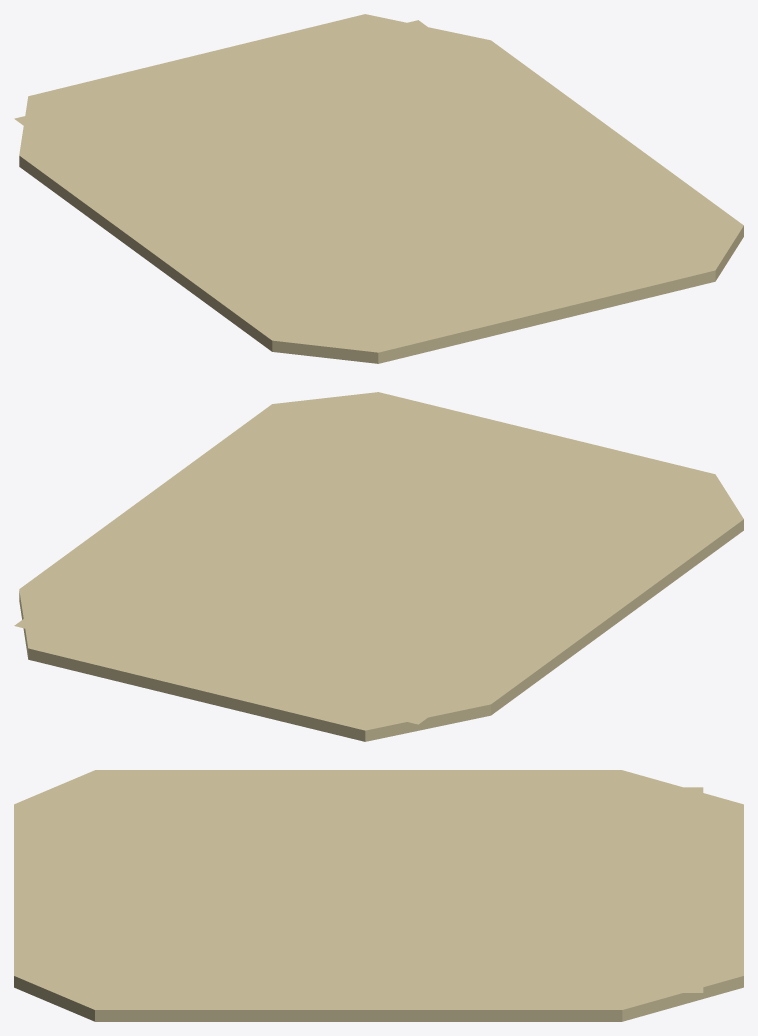
The model's file is seabed-DOdArCuC.glb.
3 renders of one model, top to bottom at view 1: azimuth 30°, elevation 25°; view 2: azimuth 150°, elevation 25°; view 3: azimuth 270°, elevation 25°, orthographic. The views are drawn at different scales.
Visible parts, largest first — view 1: SW_SandRipples, SW_SandShelf; view 2: SW_SandRipples, SW_SandShelf; view 3: SW_SandRipples, SW_SandShelf.
Boxes of the visible parts, bbox=[...] form: SW_SandRipples: bbox=[14, 20, 729, 346]; SW_SandShelf: bbox=[19, 14, 743, 363]; SW_SandRipples: bbox=[14, 398, 729, 724]; SW_SandShelf: bbox=[19, 392, 743, 741]; SW_SandRipples: bbox=[54, 787, 703, 992]; SW_SandShelf: bbox=[14, 770, 743, 1021].
Size of what is drawn, in the model's own units: 14 by 0.3203 by 18.
